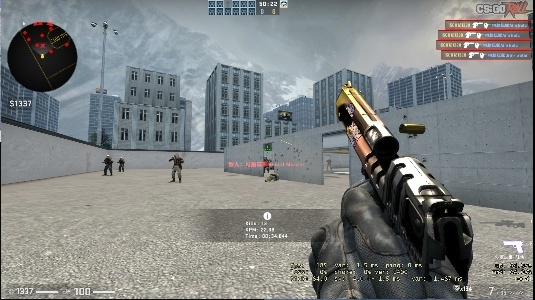body: (170, 153, 183, 181), (102, 154, 113, 176), (118, 157, 125, 172), (326, 159, 333, 172), (263, 158, 269, 173)
head: (173, 153, 180, 159), (106, 155, 110, 159), (120, 156, 123, 160), (328, 158, 331, 161), (265, 157, 267, 160)
